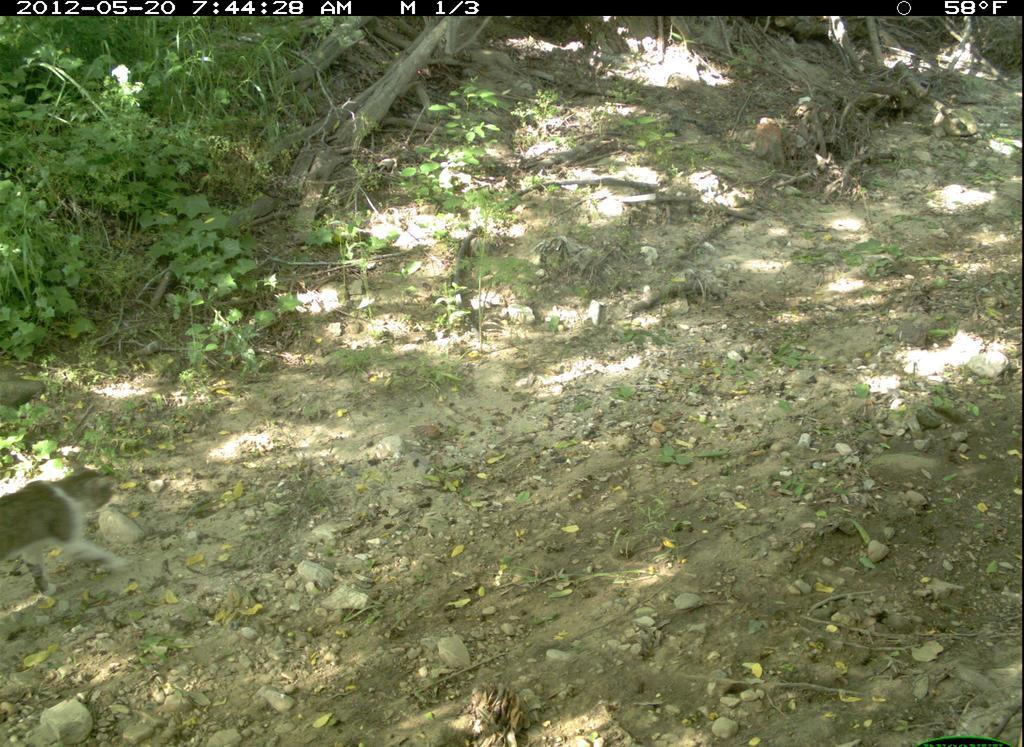cat: (1, 449, 130, 606)
